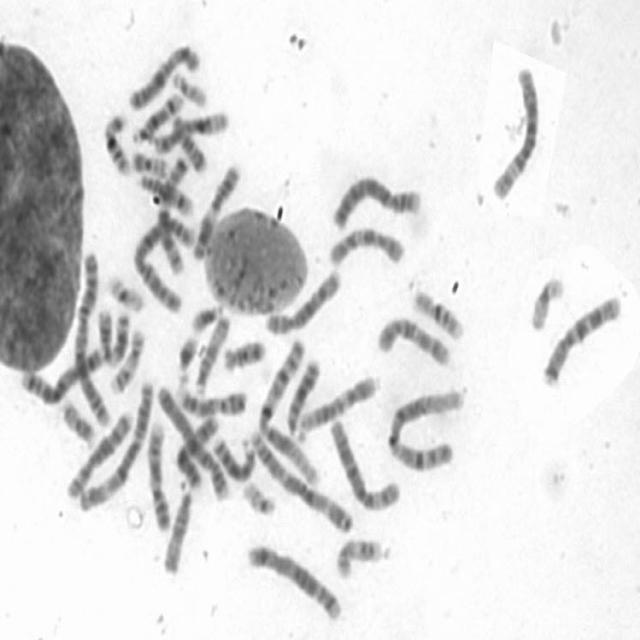A1: (258, 338, 320, 487), (387, 389, 466, 472)
A2: (72, 250, 112, 430), (132, 215, 198, 312)
A3: (249, 428, 352, 533), (78, 377, 154, 514)
B4: (155, 382, 230, 505), (331, 175, 422, 232)
B5: (246, 542, 341, 622), (20, 346, 105, 406)
C10: (377, 315, 451, 368), (327, 226, 404, 265)
C11: (192, 160, 242, 262), (96, 310, 130, 366)
C12: (299, 373, 382, 431), (148, 108, 230, 152)
C6: (328, 418, 399, 510), (493, 65, 540, 199)
C7: (541, 296, 621, 389), (156, 152, 192, 274)
C8: (63, 406, 134, 502), (264, 268, 344, 336)
C9: (146, 420, 170, 530), (173, 384, 248, 417)
D13: (286, 357, 320, 444), (212, 435, 257, 484)
D14: (130, 90, 184, 146), (137, 172, 196, 219)
D15: (193, 312, 232, 398), (162, 479, 193, 574)
E16: (412, 289, 464, 342), (104, 111, 132, 178)
E17: (110, 328, 145, 394), (336, 536, 383, 580)
E18: (170, 70, 208, 110), (223, 339, 267, 371)
F19: (530, 276, 564, 332), (108, 276, 144, 314)
F20: (62, 400, 98, 450), (131, 150, 168, 178)
G21: (175, 335, 199, 384), (190, 302, 224, 333)
G22: (171, 115, 208, 173), (241, 482, 276, 516)
X: (128, 44, 202, 112), (174, 414, 220, 490)
